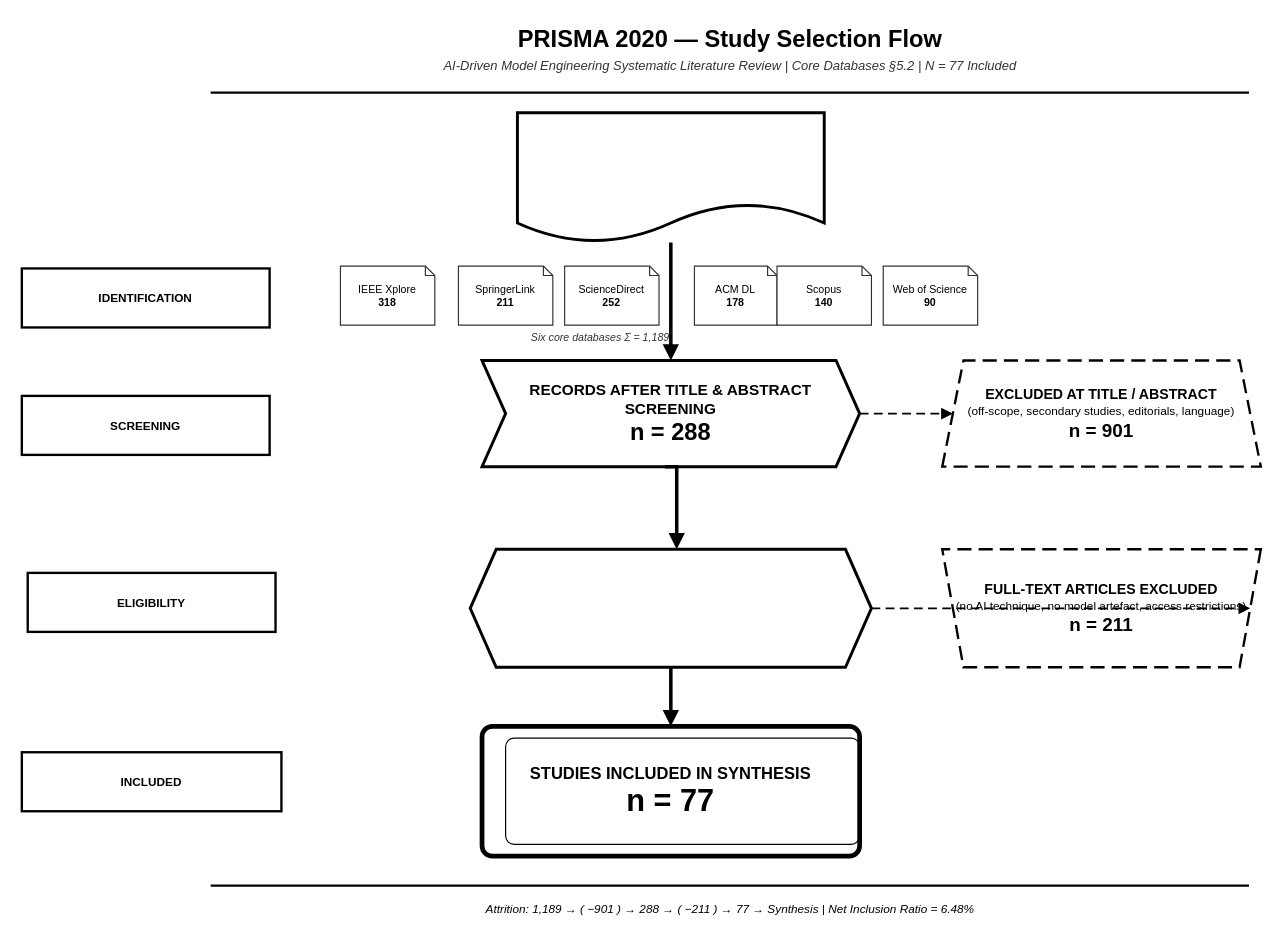
Some shapes in this 1281 by 940 pixel diagram are drawn without their labels. The shapes that lost their labels are listed below. From the top down, each one's centre as x and y in pixels, then its label:
point 670,177: RECORDS IDENTIFIED via database searching n = 1,189
point 670,607: FULL-TEXT ARTICLES ASSESSED FOR ELIGIBILITY n = 288
